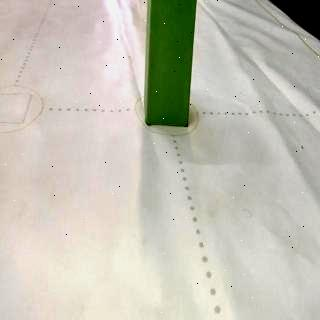greenbox: (145, 1, 202, 127)
